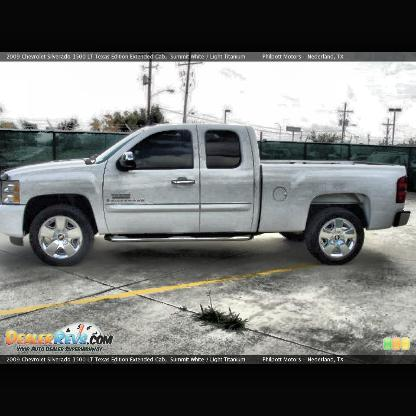Chevrolet Silverado 1500 Extended Cab 2012: (1, 126, 411, 271)
